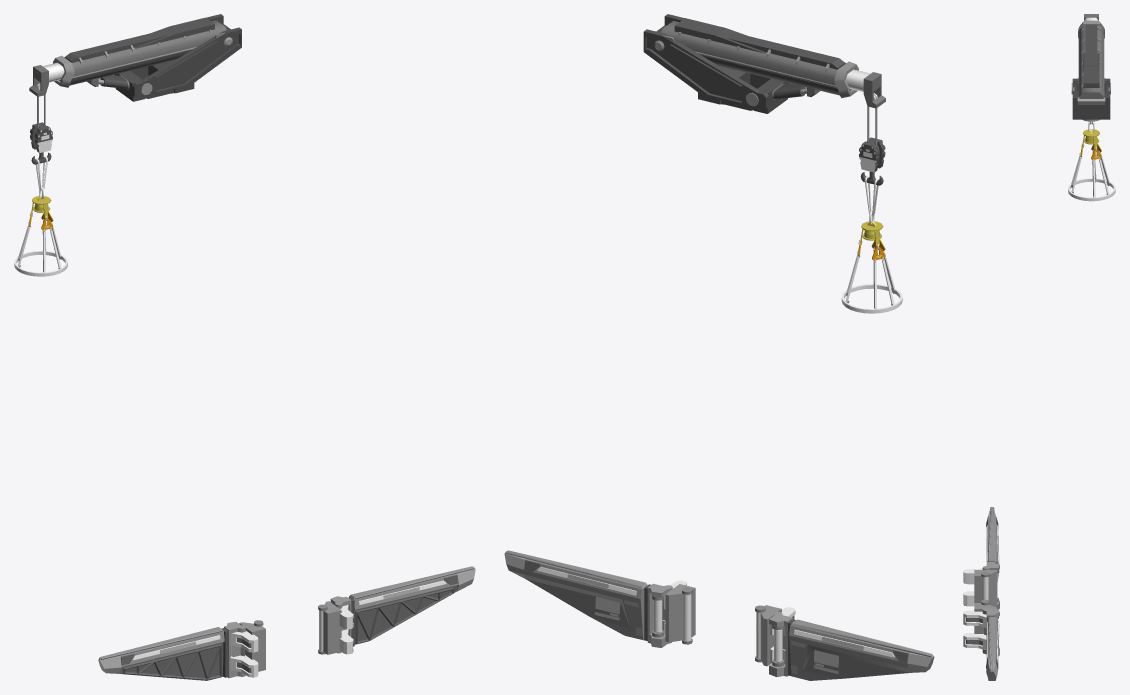
The picture shows the model from 3 angles, left to right: view 1: azimuth 30°, elevation 25°; view 2: azimuth 150°, elevation 25°; view 3: azimuth 270°, elevation 25°; orthographic projection. The views are drawn at different scales.
Parts seen in each view (by area): view 1: SM_H_Industrial_ISS_Rocket_02; view 2: SM_H_Industrial_ISS_Rocket_02; view 3: SM_H_Industrial_ISS_Rocket_02.
Boxes of the visible parts, box(x1,y1,x2,y2) form: SM_H_Industrial_ISS_Rocket_02: box(14, 14, 475, 680); SM_H_Industrial_ISS_Rocket_02: box(504, 14, 934, 680); SM_H_Industrial_ISS_Rocket_02: box(963, 14, 1115, 680).
Bounding box in the file's own units: 697 × 1886 × 2716.
